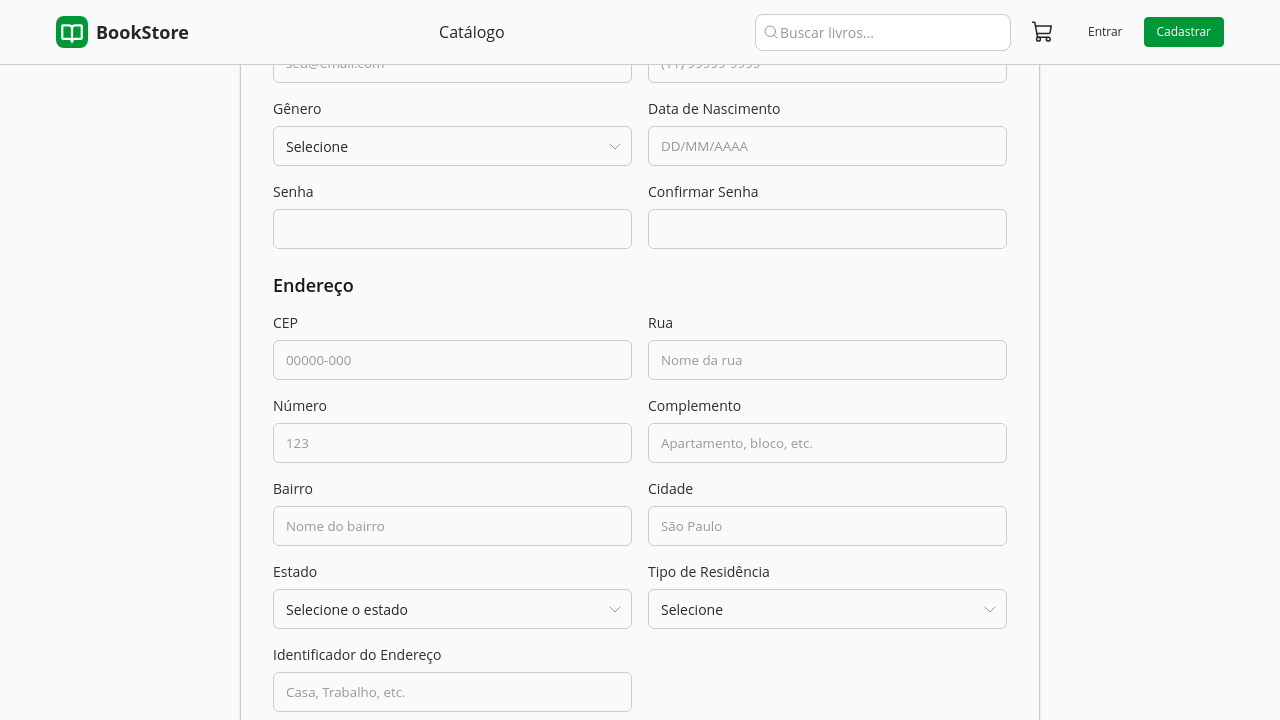
Sign Up Form › Field Masking and Input Formatting › should apply CEP mask while typing
(page scrolled)
Type "12345678" into the field with test id "zip-code-input" at (453, 360), box [286,351,619,369]
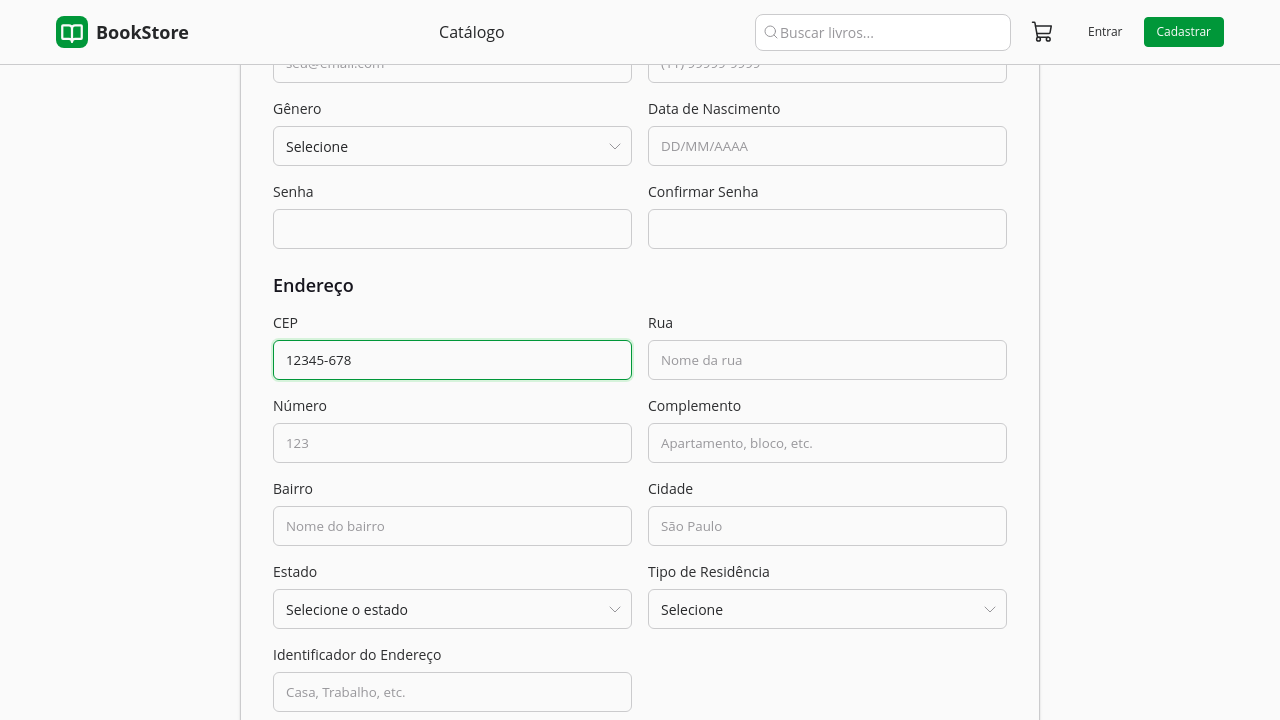
expect the field with test id "zip-code-input" holds "12345-678": met, box [286,351,619,369]
